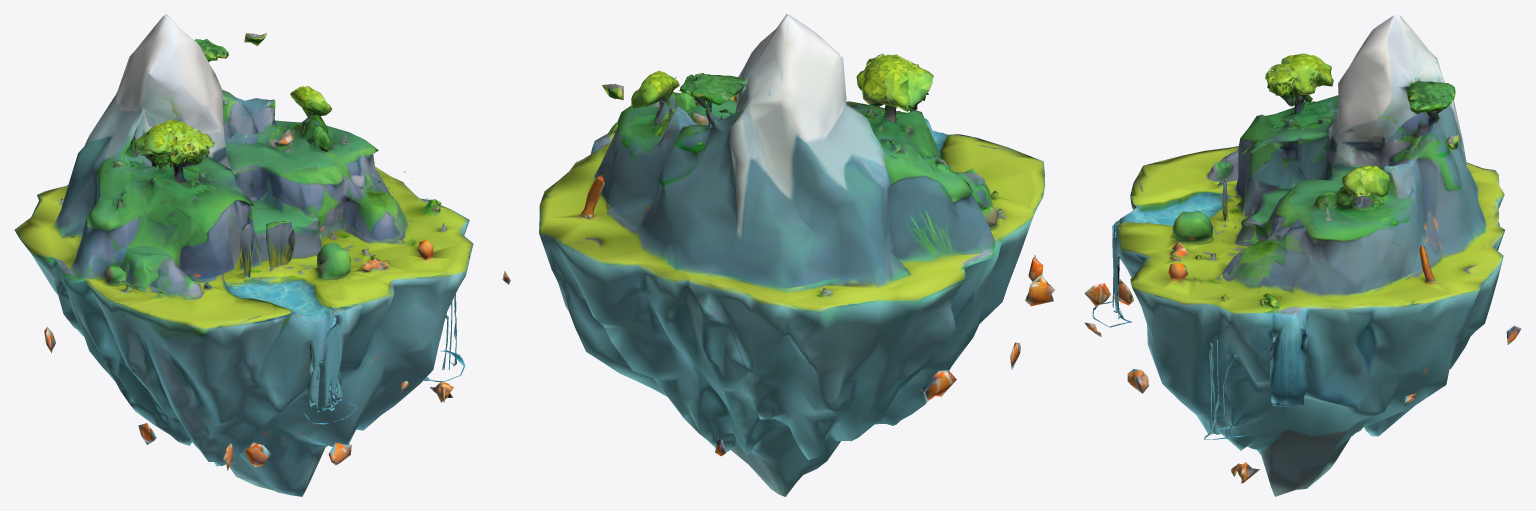
Rendered from Pesca.glb.
3 renders of one model, left to right at view 1: azimuth 30°, elevation 25°; view 2: azimuth 150°, elevation 25°; view 3: azimuth 270°, elevation 25°, orthographic. The views are drawn at different scales.
Bounding box in the file's own units: 1.75 × 1.99 × 1.76.
Materials: 1 (1 with a texture image).
